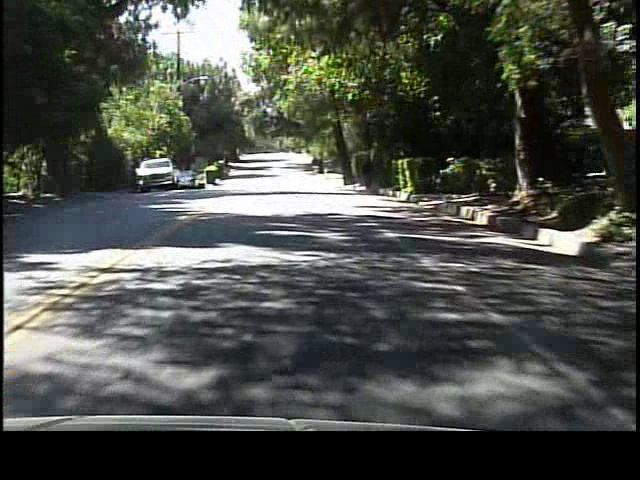person: (359, 154, 378, 198)
